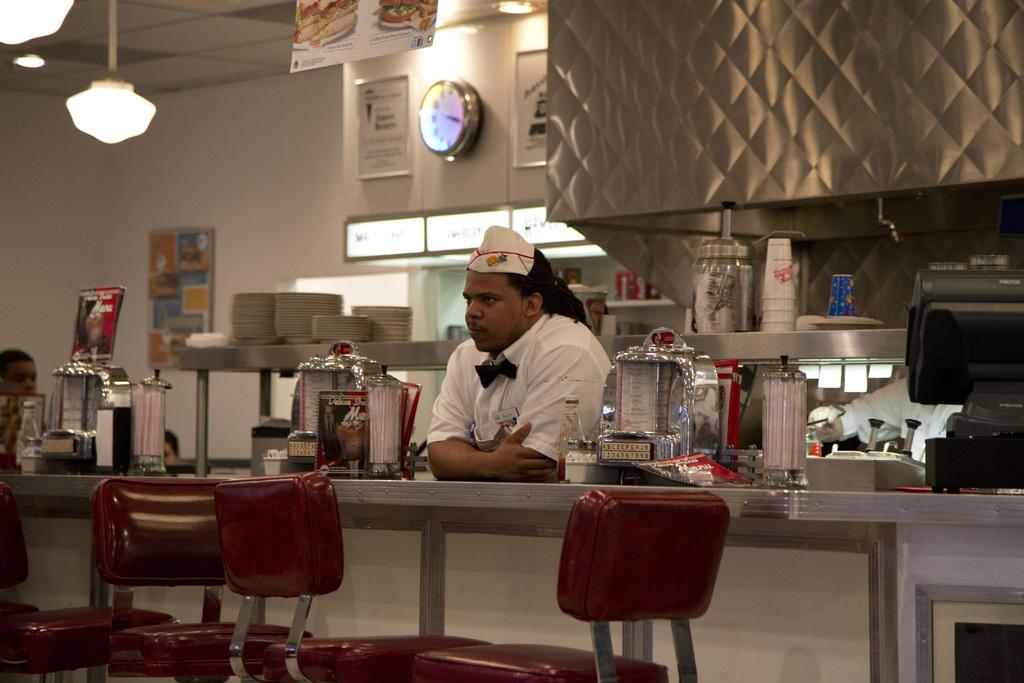Chair: (410, 486, 730, 682), (213, 470, 494, 682), (89, 475, 313, 682)
